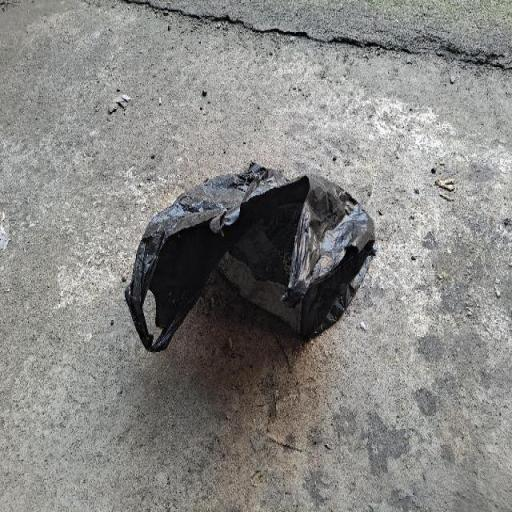plastic-bag: (124, 156, 379, 354)
